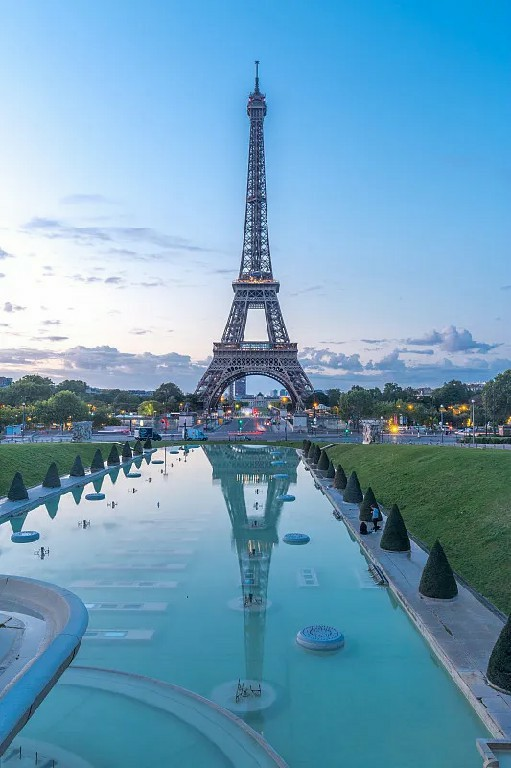Eiffel: (193, 60, 316, 411)
